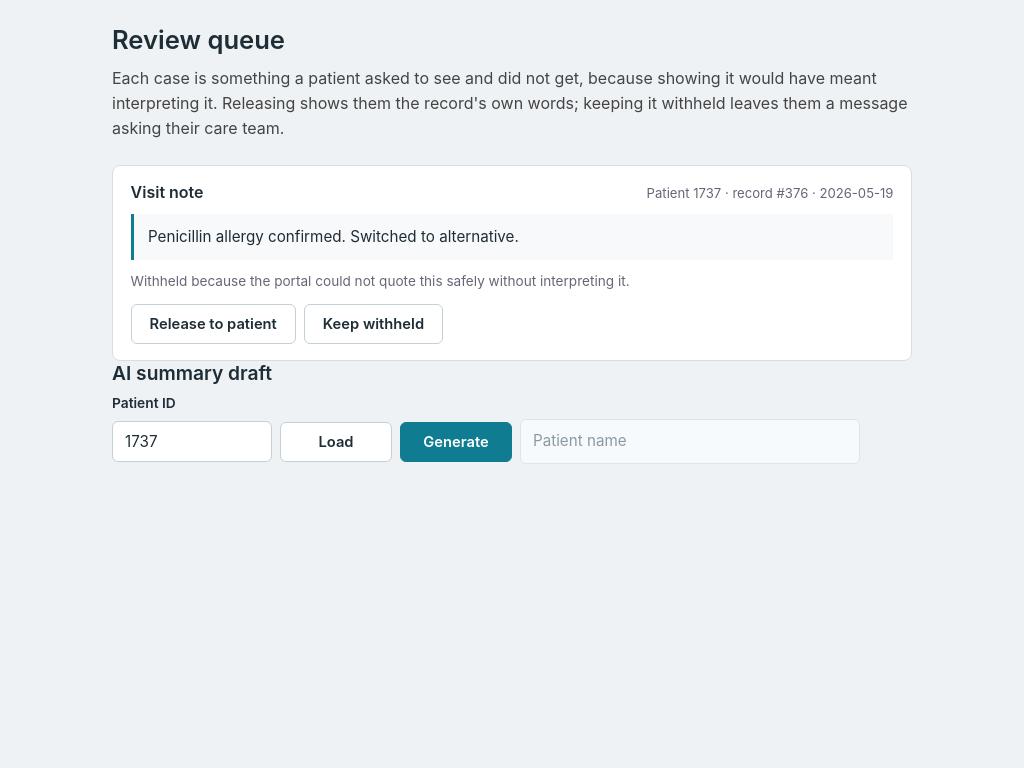
Scenario: deciding a case › spells out the consequence of keeping it withheld too
Click the button "Keep withheld".
click(373, 324)  # box left=304, top=304, right=443, bottom=344
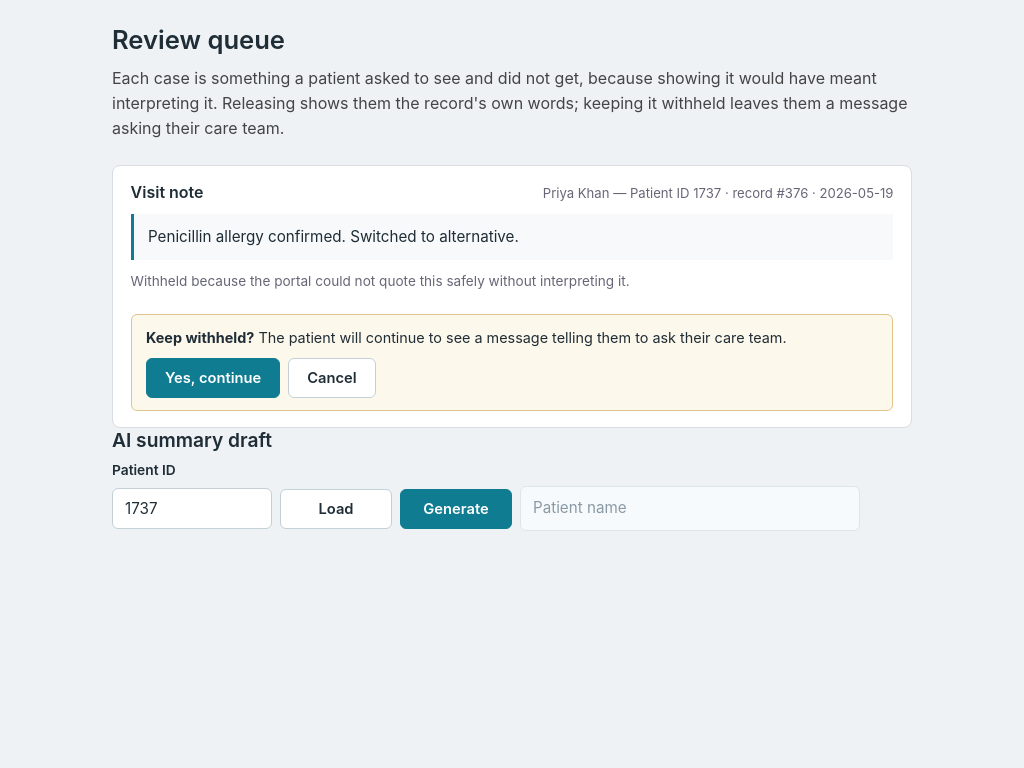
Result: the text "continue to see a message" is shown at left=258, top=329, right=787, bottom=346
